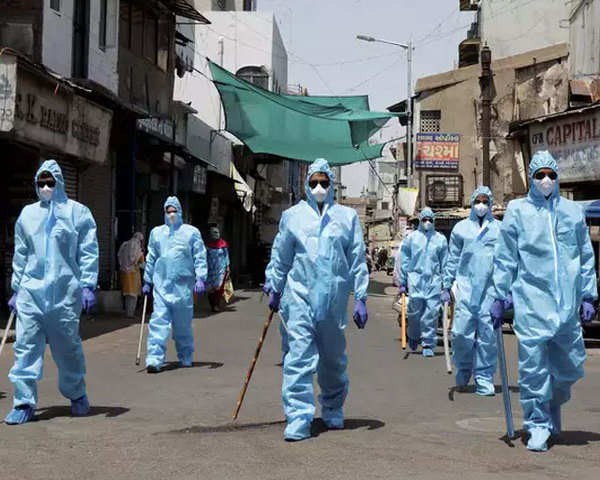Coverall: (497, 151, 600, 427), (267, 158, 370, 421), (7, 156, 101, 402), (447, 185, 507, 374), (140, 193, 205, 357), (395, 202, 445, 346)
Gloves: (351, 298, 368, 330), (489, 301, 507, 331), (80, 285, 97, 312), (578, 302, 597, 324)
